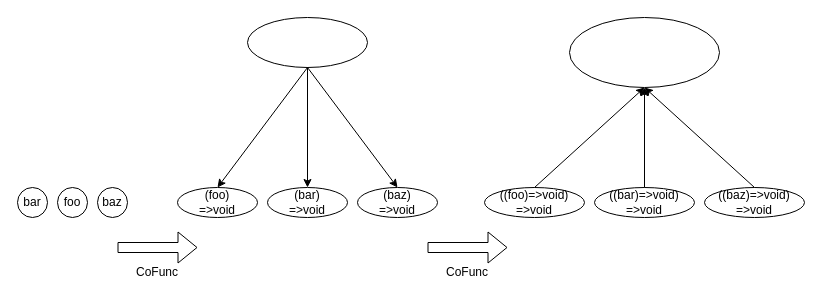
The diagram is 822 pixels wide and 305 high, and some of its shapes have lost their labels. Each missing label, with the box of its shape:
((foo)=>void & (bar)=>void & (baz)=>void) =>void: (568, 16, 720, 88)
(foo)=>void & (bar)=>void & (baz)=>void: (246, 16, 368, 68)
